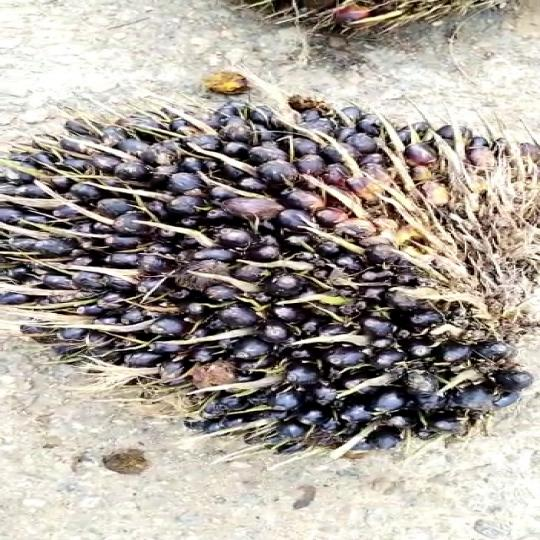mentah: (0, 104, 540, 456)
